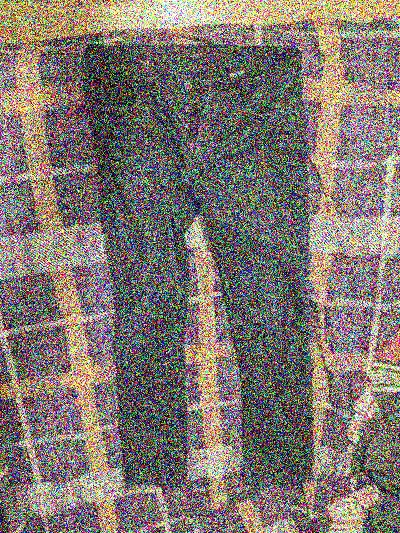Pants: (55, 32, 328, 484)
